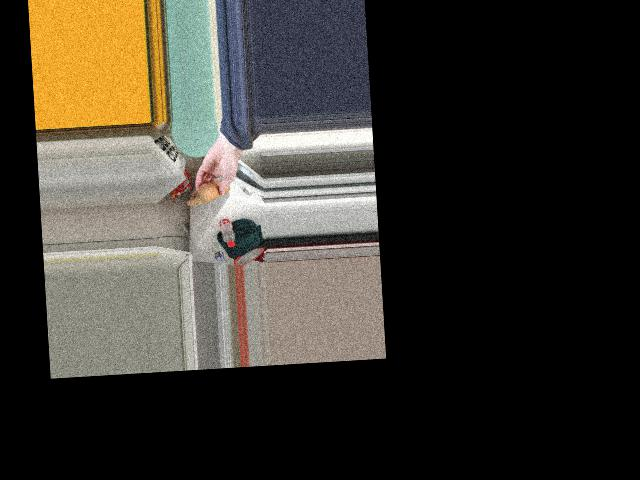sweet_potato: (198, 181, 226, 202)
